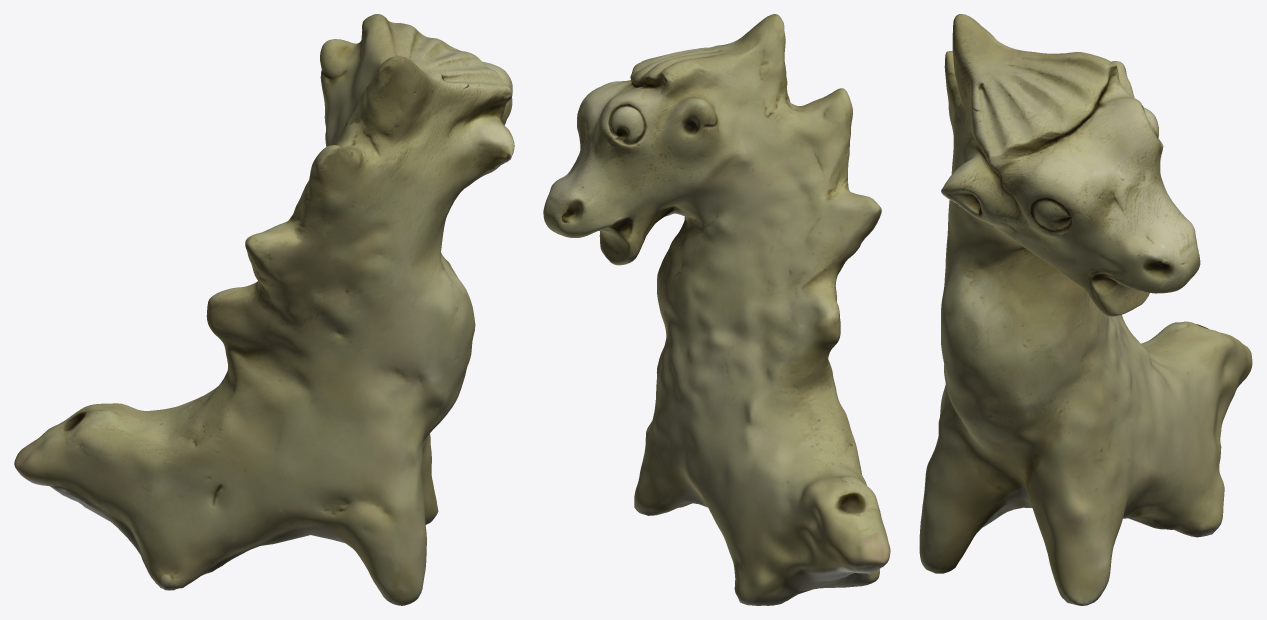
3 renders of one model, left to right at view 1: azimuth 30°, elevation 25°; view 2: azimuth 150°, elevation 25°; view 3: azimuth 270°, elevation 25°, orthographic. The views are drawn at different scales.
Size of the model in its own units: 0.6324 by 0.7891 by 0.4246.
1 material, 1 textured.
